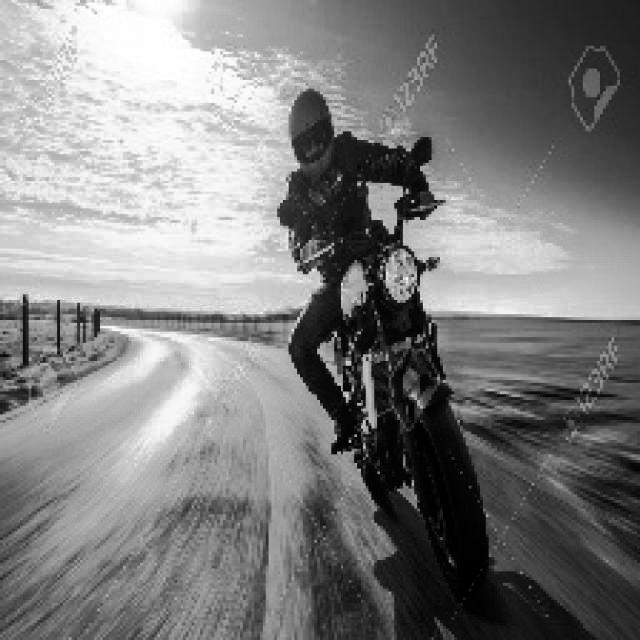Bike: (314, 216, 506, 606)
